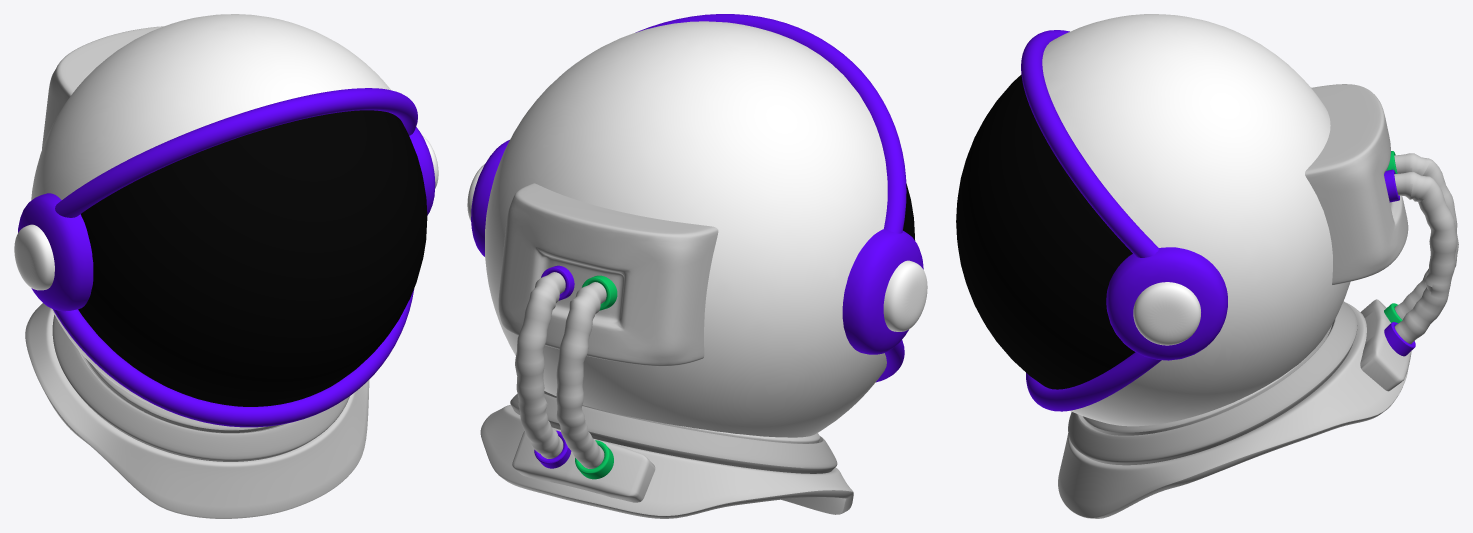
Rendered from helmet-touch.glb.
The picture shows the model from 3 angles, left to right: view 1: azimuth 30°, elevation 25°; view 2: azimuth 150°, elevation 25°; view 3: azimuth 270°, elevation 25°; orthographic projection. The views are drawn at different scales.
Visible parts, largest first — view 1: Shield glass, Helmet, Shield rim, Suit, Suit rim, Ventilation; view 2: Helmet, Ventilation, Suit, Shield rim, Cables, Suit rim, Metalic rings 1, Metalic rings 2; view 3: Helmet, Shield glass, Shield rim, Suit, Ventilation, Suit rim, Cables, Metalic rings 2.
Part boxes in pixels (bbox=[...]): Shield glass: bbox=[78, 110, 427, 406]; Helmet: bbox=[14, 14, 438, 412]; Shield rim: bbox=[18, 88, 435, 427]; Suit: bbox=[25, 303, 369, 518]; Suit rim: bbox=[52, 315, 349, 461]; Ventilation: bbox=[42, 26, 163, 149]; Helmet: bbox=[467, 21, 927, 437]; Ventilation: bbox=[498, 183, 718, 502]; Suit: bbox=[480, 391, 853, 518]; Shield rim: bbox=[471, 14, 923, 382]; Cables: bbox=[515, 272, 606, 468]; Suit rim: bbox=[510, 393, 837, 473]; Metalic rings 1: bbox=[575, 275, 617, 479]; Metalic rings 2: bbox=[534, 265, 574, 468]; Helmet: bbox=[1042, 14, 1350, 426]; Shield glass: bbox=[956, 74, 1135, 389]; Shield rim: bbox=[1021, 30, 1227, 411]; Suit: bbox=[1058, 302, 1408, 518]; Ventilation: bbox=[1305, 84, 1411, 391]; Suit rim: bbox=[1068, 301, 1357, 465]; Cables: bbox=[1394, 153, 1458, 343]; Metalic rings 2: bbox=[1384, 169, 1415, 356].
Size of the model in its own units: 0.1592 by 0.1691 by 0.1695.
